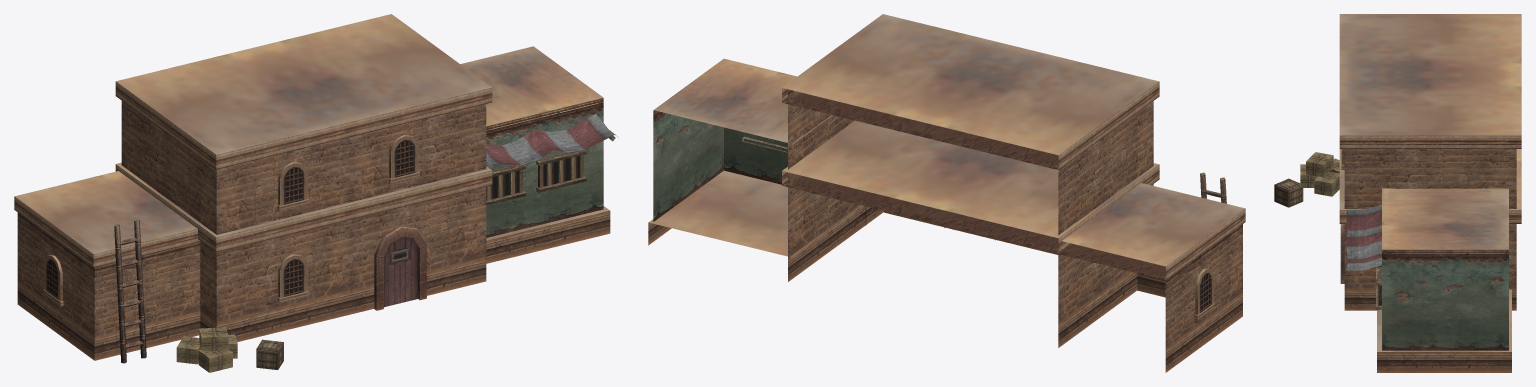
File: SC_huangmo_19.FBX
The picture shows the model from 3 angles, left to right: view 1: azimuth 30°, elevation 25°; view 2: azimuth 150°, elevation 25°; view 3: azimuth 270°, elevation 25°; orthographic projection. The views are drawn at different scales.
Parts seen in each view (by area): view 1: SC_huangmo_19; view 2: SC_huangmo_19; view 3: SC_huangmo_19.
Part boxes in pixels (left/top/right/bottom): SC_huangmo_19: left=14, top=14, right=618, bottom=372; SC_huangmo_19: left=648, top=14, right=1245, bottom=372; SC_huangmo_19: left=1274, top=14, right=1521, bottom=372.
Size of the model in its own units: 1860 by 671 by 847.
